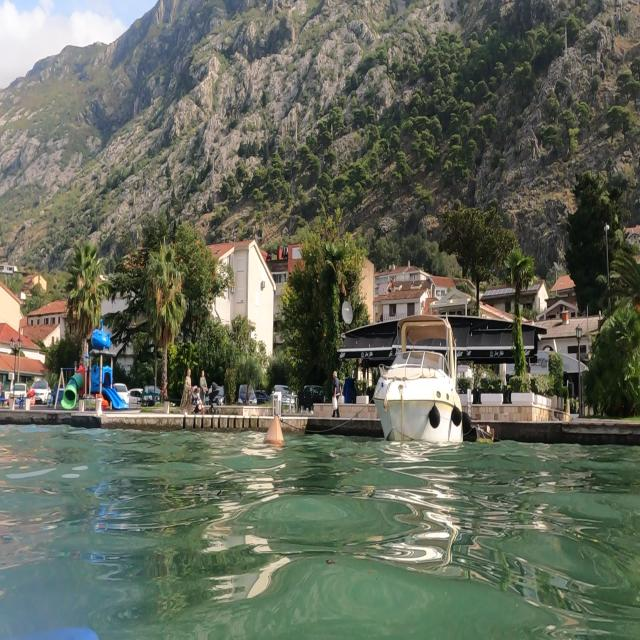boat: (372, 310, 466, 448)
buoy: (260, 408, 288, 453)
